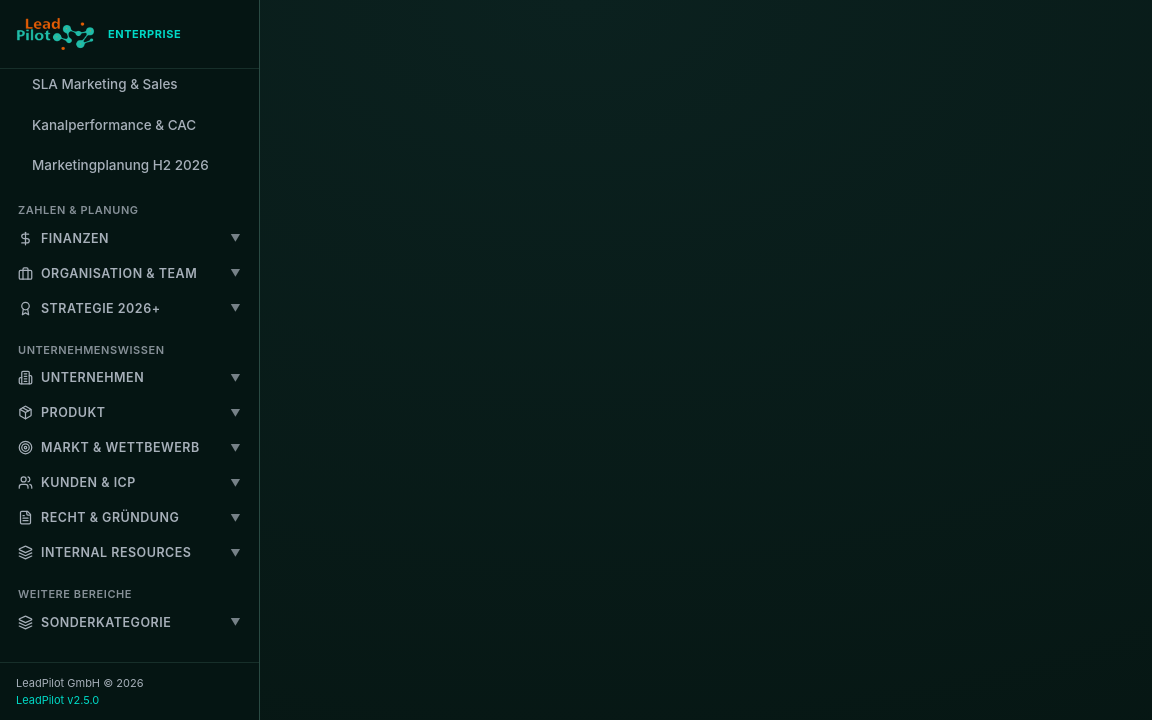
Test case: Sidebar (branch3) › unbekannte Kategorie nutzt Icon-Fallback und Dashboard-Fallbackroute
(page scrolled)
Click the button "Sonderkategorie ▼": (130,622) [8,606,251,638]
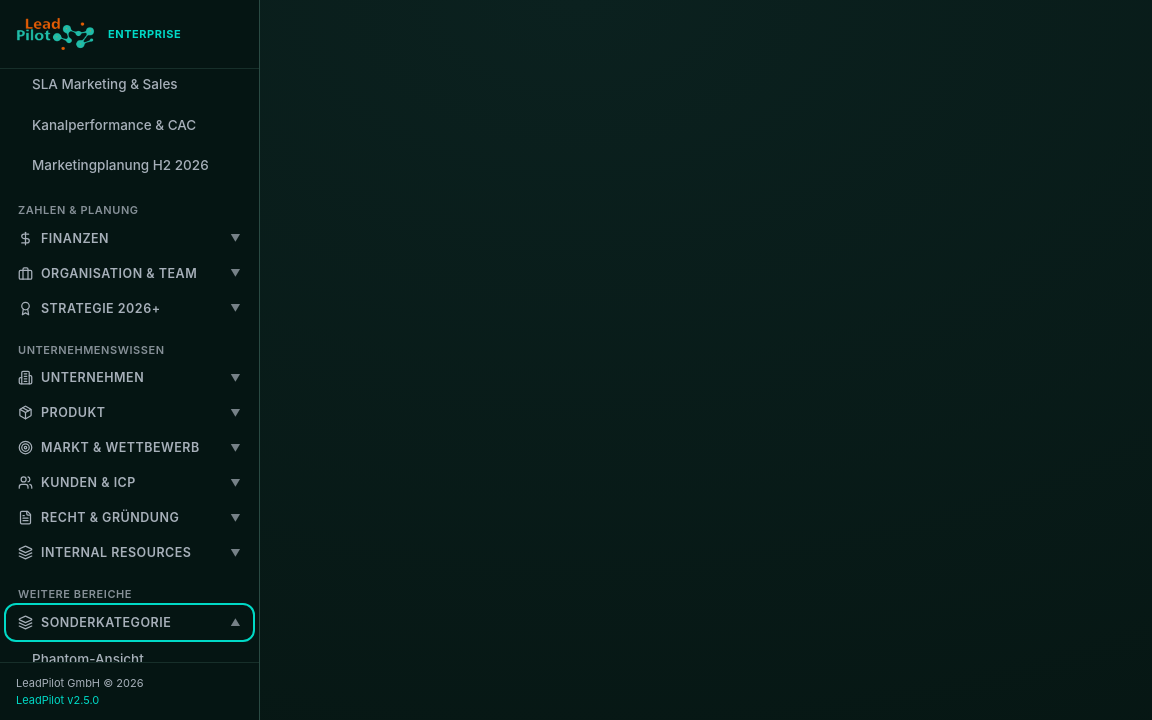
Check: the button "Sonderkategorie ▲" is expanded, box [8,606,251,638]
